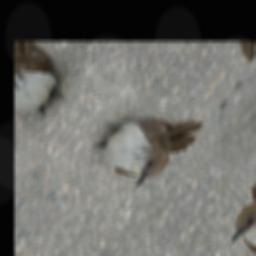Cuckoo: (79, 83, 207, 198)
